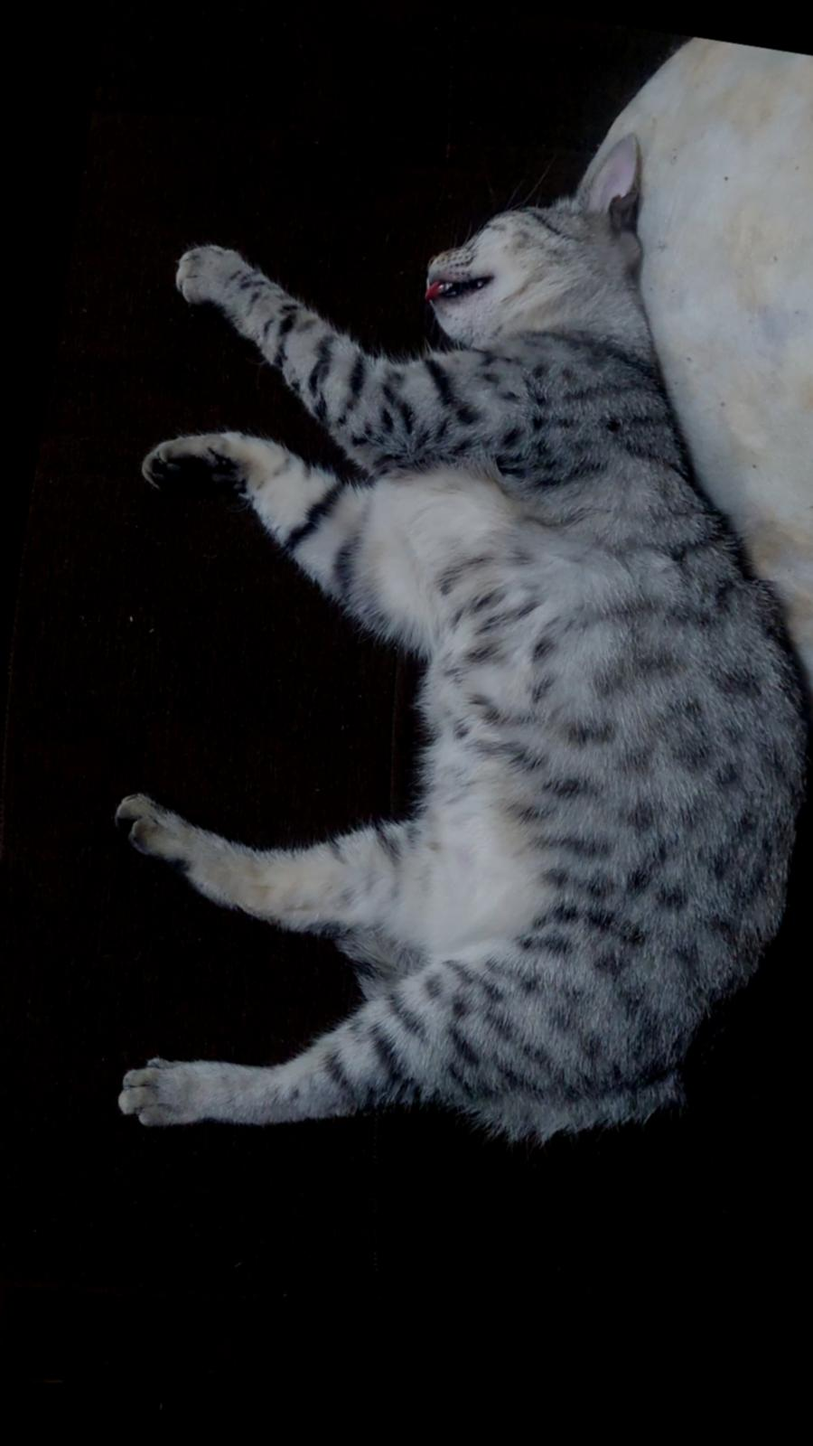macka: (37, 66, 813, 1225)
